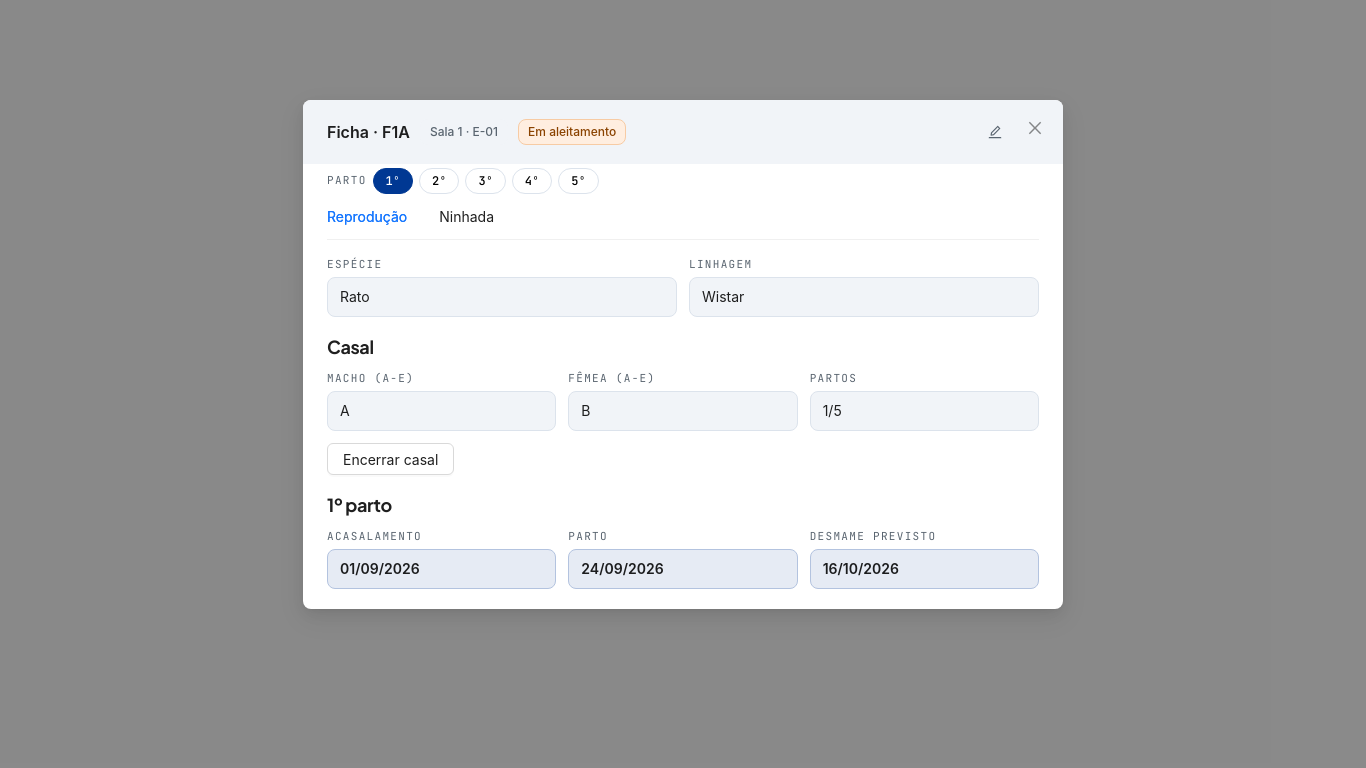
Test: a aba Ninhada no celular › no computador, o formulário do desmame continua aberto como sempre
Click the tab "Ninhada". click: [467, 217]
box: [439, 206, 494, 228]
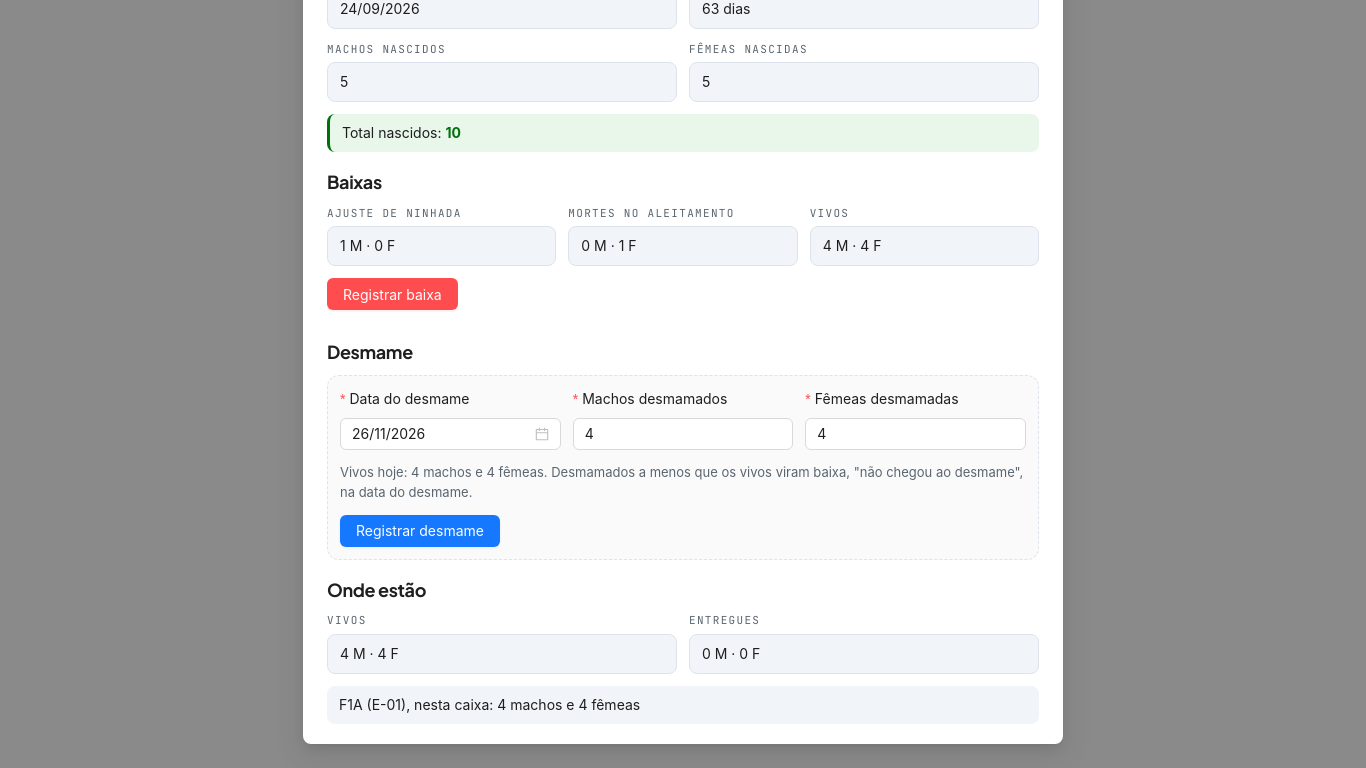
Result: the number field labelled "Machos desmamados" is shown at [574, 419, 792, 449]
